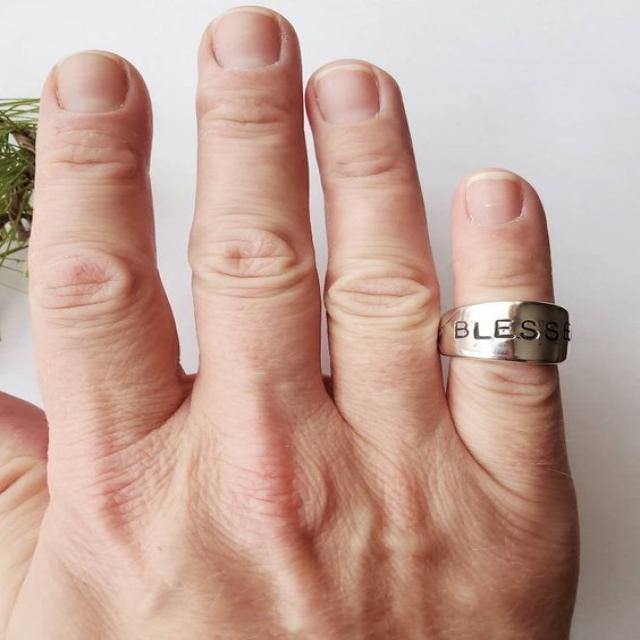Fingernail: (213, 9, 281, 73), (56, 57, 127, 117), (316, 66, 380, 128), (467, 173, 523, 228)
